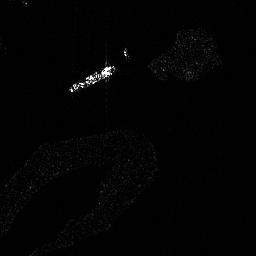ship: (69, 65, 116, 93)
